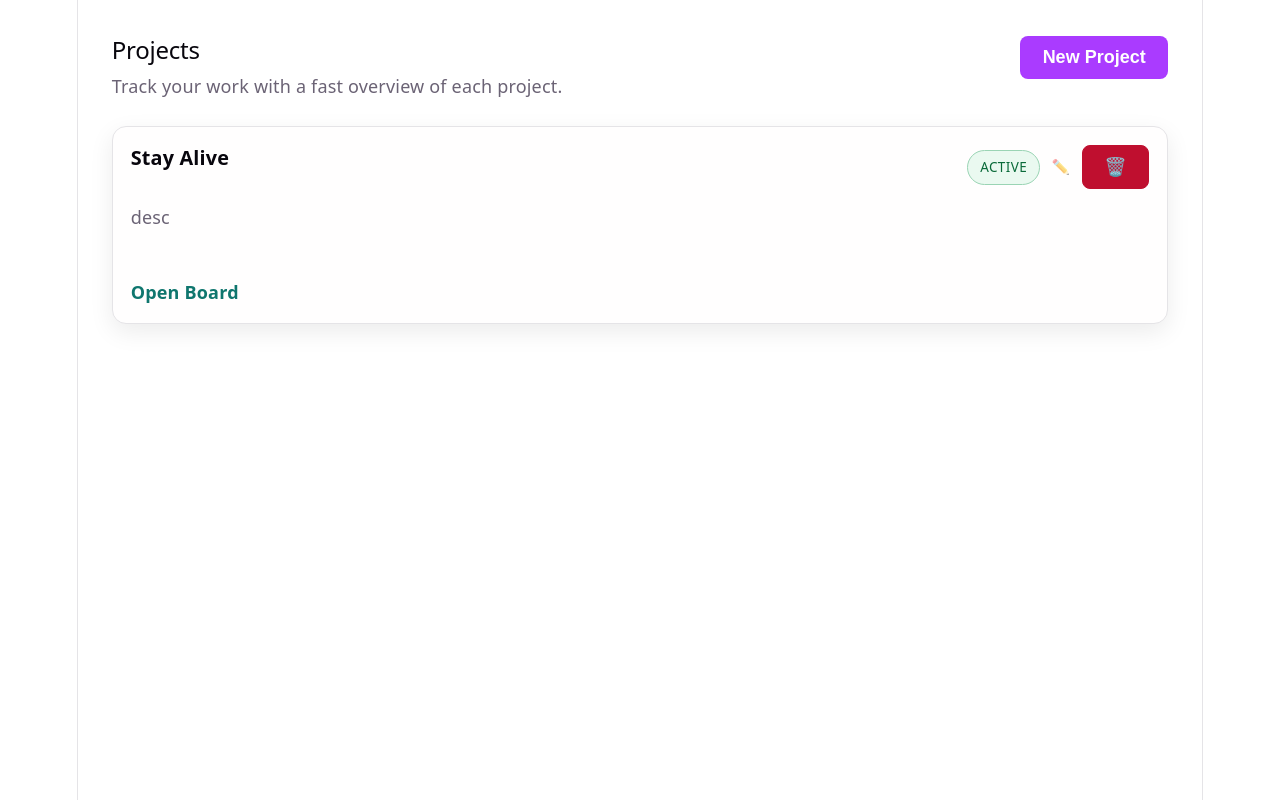
Test: Dashboard › closes the delete confirmation when cancel is clicked
The width and height of the screenshot is (1280, 800).
expect the heading "Stay Alive" is shown: met, box [131,145,229,172]
Click the button named "Delete Stay Alive" at [1115, 167], box [1082,145,1149,189]
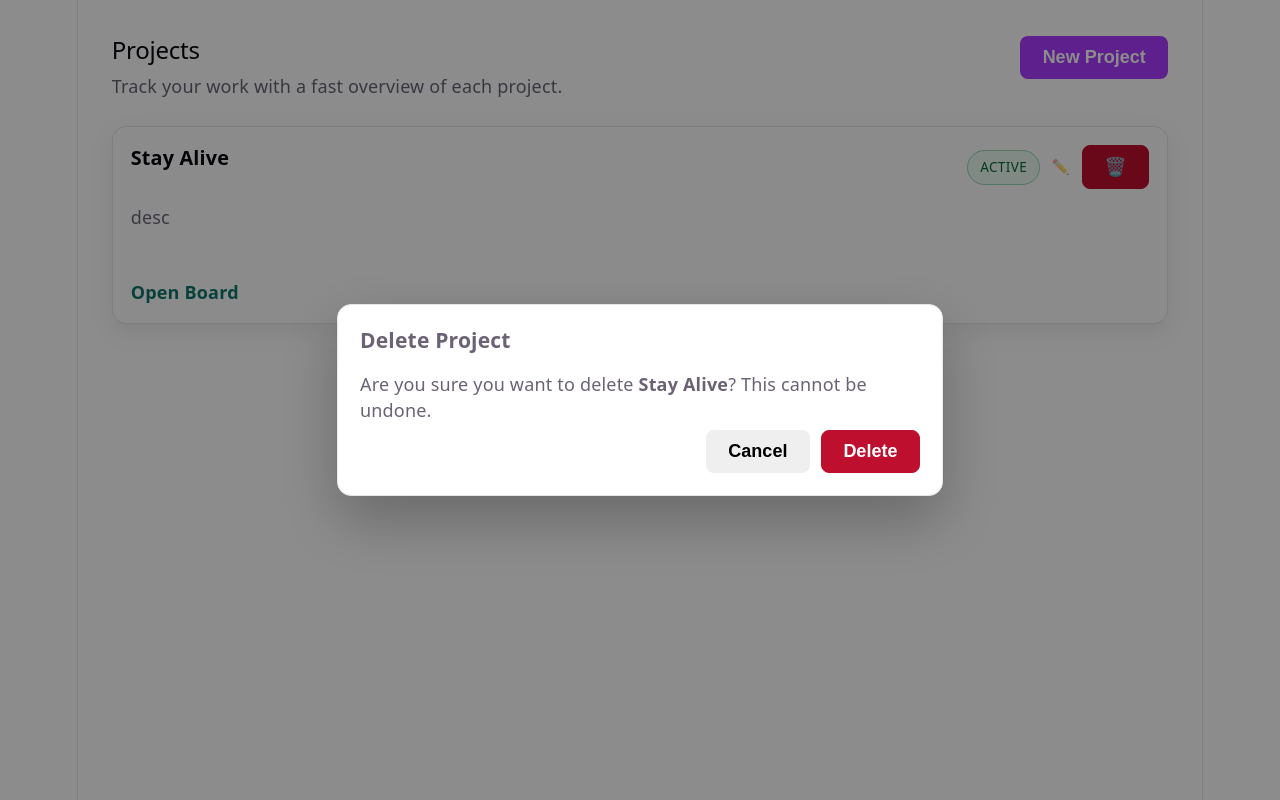
expect the dialog is shown: met, box [337,304,943,496]
Click the button "Cancel" at [758, 452], box [706,430,810,473]
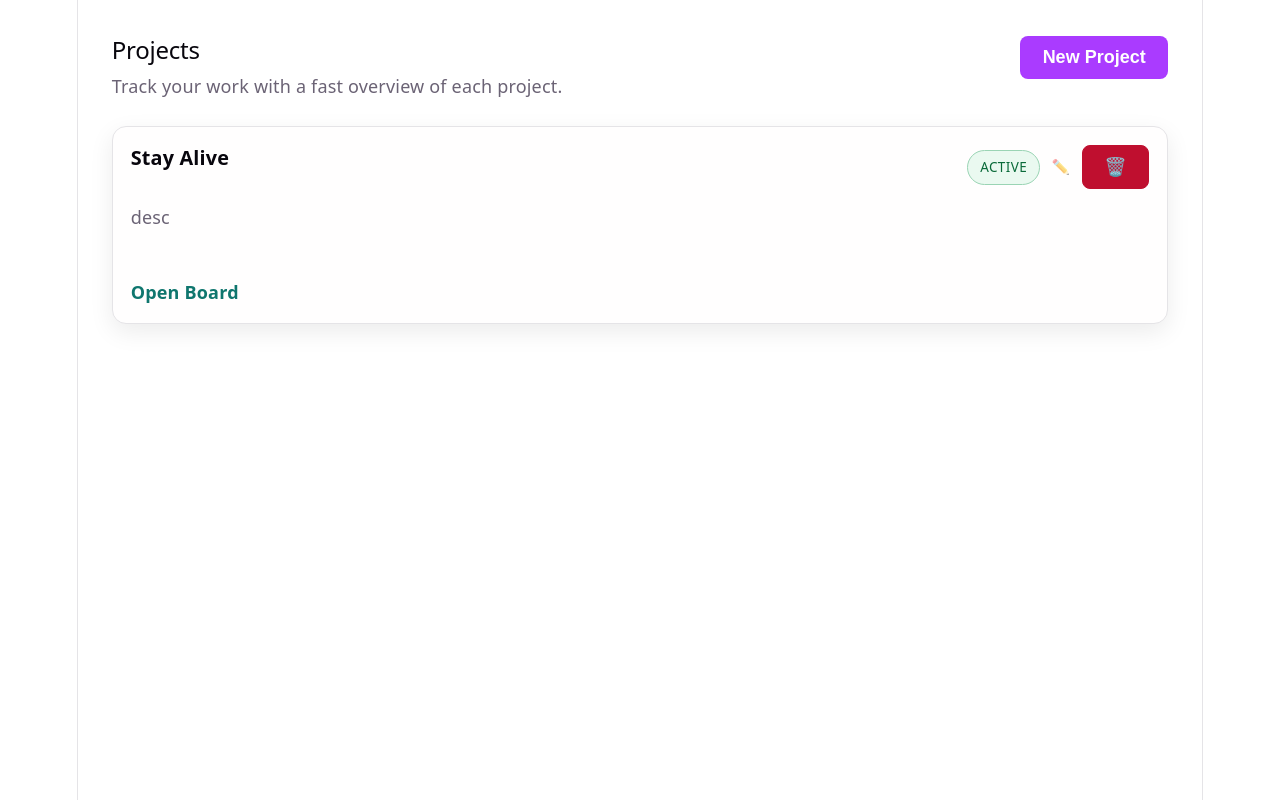
expect the dialog is gone: met
